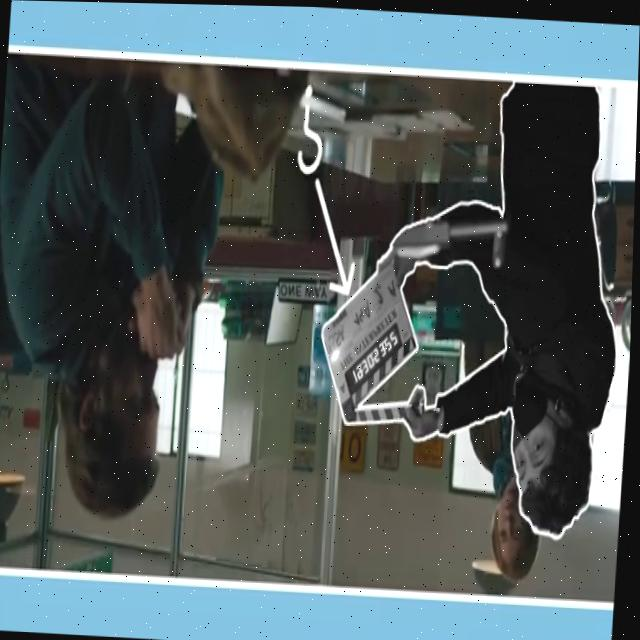Clapperboard: (314, 251, 433, 428)
